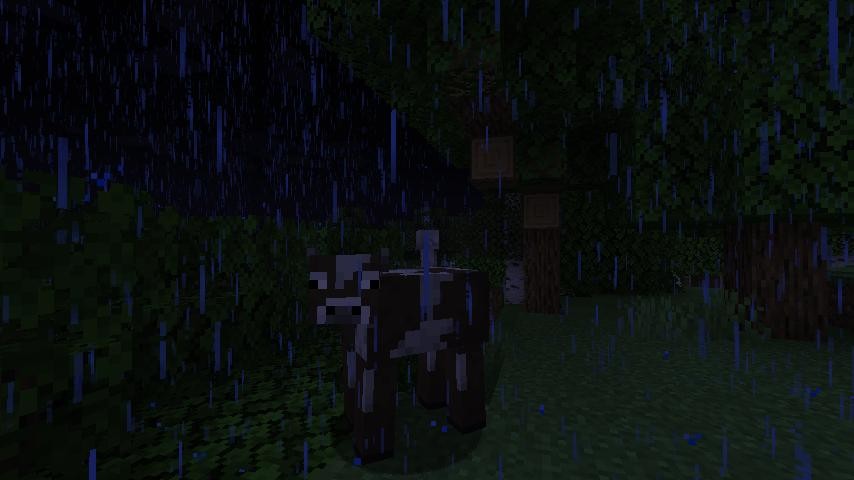cow: (299, 239, 496, 463)
